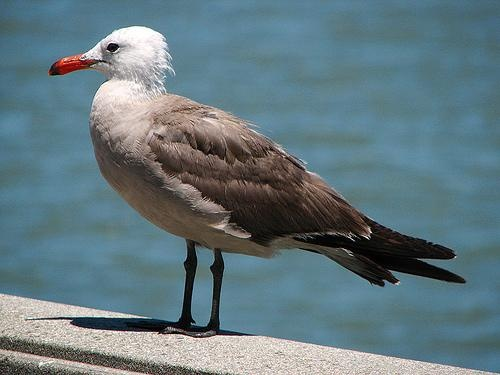bird: (48, 24, 459, 336)
